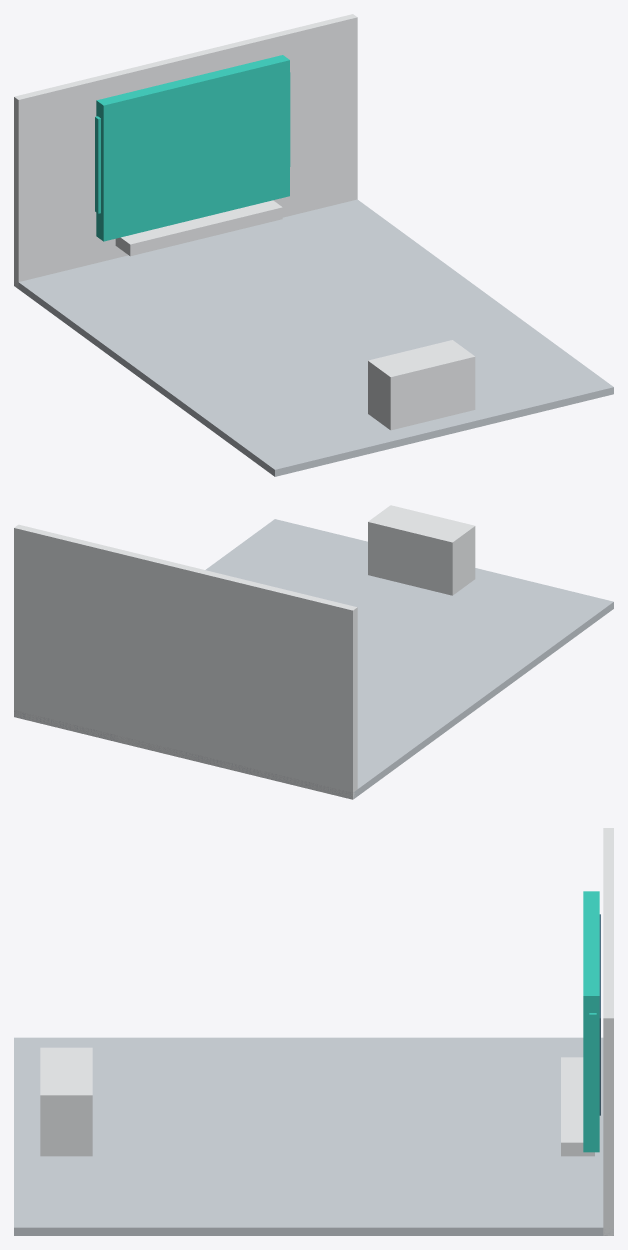
3 views of the same model, one above another, from view 1: azimuth 30°, elevation 25°; view 2: azimuth 150°, elevation 25°; view 3: azimuth 270°, elevation 25° (orthographic). The views are drawn at different scales.
Visible parts, largest first — view 1: Exhibition Booth Concept; view 2: Exhibition Booth Concept; view 3: Exhibition Booth Concept.
Part boxes in pixels (x1,y1,x2,y2): Exhibition Booth Concept: (14,14,613,476); Exhibition Booth Concept: (14,505,613,799); Exhibition Booth Concept: (14,828,613,1235).
Bounding box in the file's own units: 6 × 3.2 × 8.
